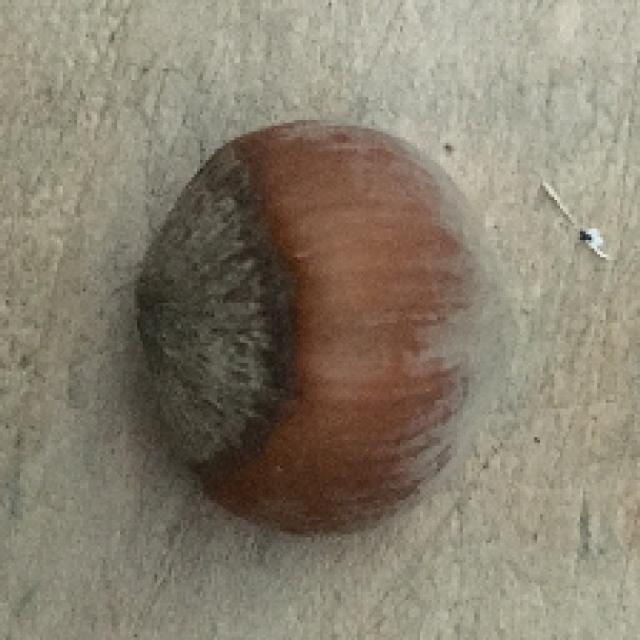QualityHazelnut: (134, 120, 523, 537)
